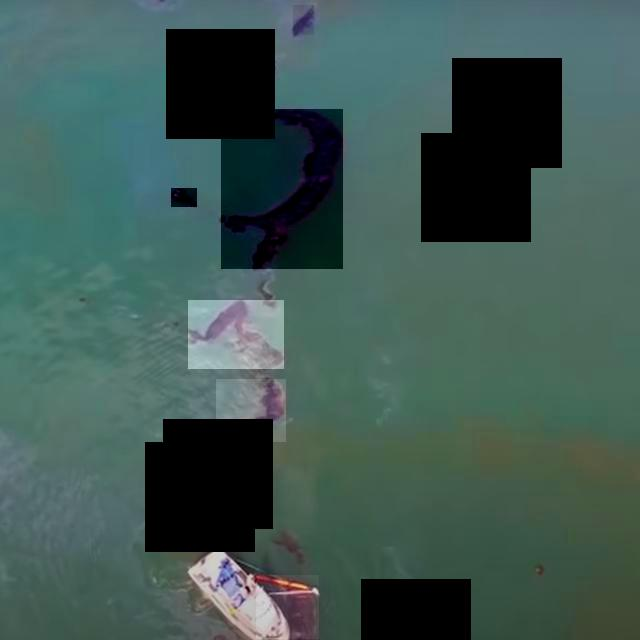oil spill: (221, 110, 343, 269), (188, 300, 284, 369), (216, 379, 286, 442), (256, 576, 319, 639), (293, 6, 314, 35), (171, 189, 197, 207)
